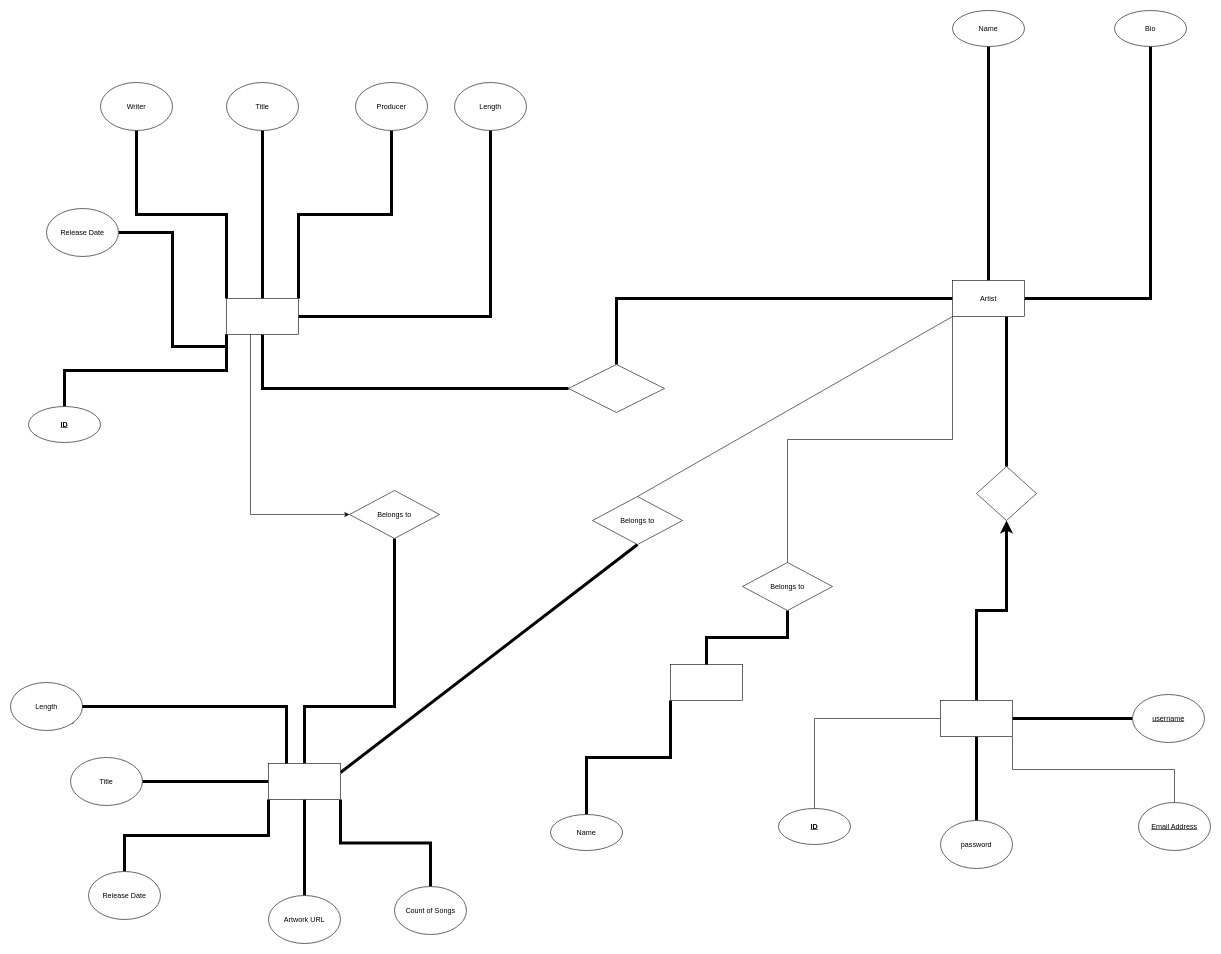
Some shapes in this 1221 by 954 pixel diagram are drawn without their labels. Here are the shapes that lost their labels. From the top down, the centre of each, then its label:
At point 262,316: "Song".
At point 616,388: "Written By".
At point 1006,493: "Has A".
At point 706,682: "Group".
At point 976,718: "User Account".
At point 304,781: "Album".
